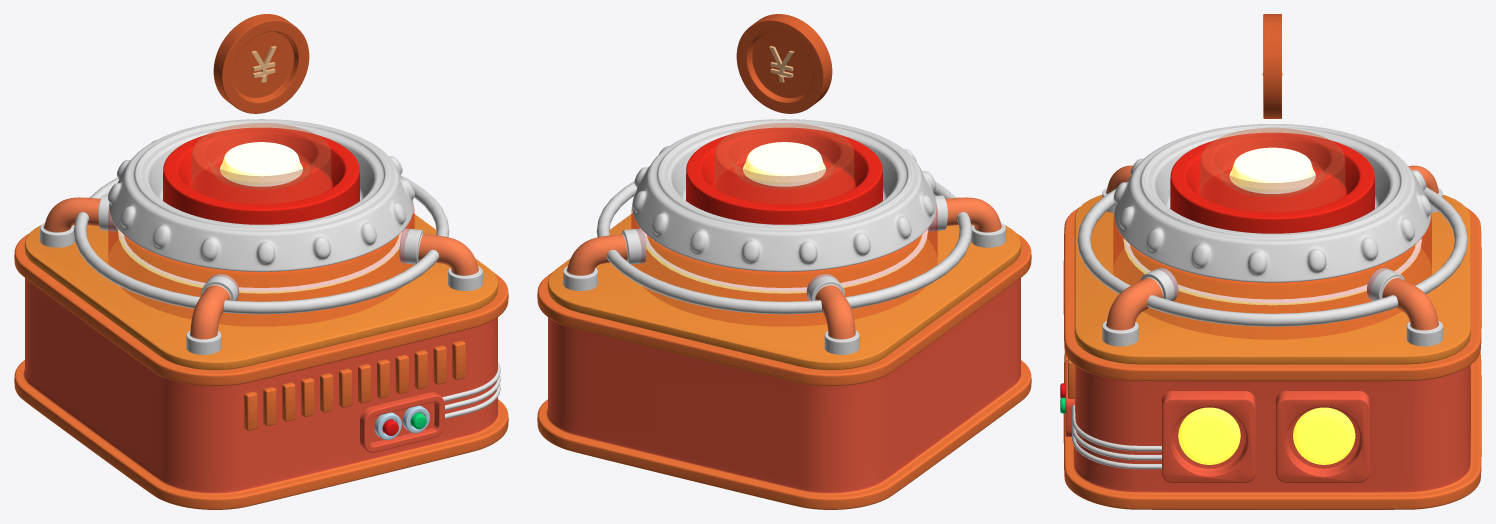
File: money.glb
3 renders of one model, left to right at view 1: azimuth 30°, elevation 25°; view 2: azimuth 150°, elevation 25°; view 3: azimuth 270°, elevation 25°, orthographic. The views are drawn at different scales.
Visible parts, largest first — view 1: 立方体, 立方体.006, 柱体.009, 柱体.011, 柱体.008, 柱体.012, 柱体.010, 柱体.013, 立方体.001, 贝塞尔圆, 立方体.002, 贝塞尔圆.001 (+1 smaller); view 2: 立方体, 立方体.006, 柱体.009, 柱体.011, 柱体.008, 柱体.012, 柱体.010, 柱体.013, 贝塞尔圆, 贝塞尔圆.001; view 3: 立方体, 立方体.006, 柱体.009, 柱体.011, 柱体.008, 柱体.012, 贝塞尔圆, 柱体.010, 立方体.004, 立方体.003, 立方体.007, 立方体.008 (+3 smaller).
Part boxes in pixels (<box>): 立方体: <box>14,233,508,509</box>; 立方体.006: <box>24,213,498,369</box>; 柱体.009: <box>108,119,414,271</box>; 柱体.011: <box>163,127,359,224</box>; 柱体.008: <box>108,209,414,326</box>; 柱体.012: <box>192,123,330,203</box>; 柱体.010: <box>40,195,482,354</box>; 柱体.013: <box>213,14,309,113</box>; 立方体.001: <box>244,340,465,430</box>; 贝塞尔圆: <box>73,176,449,314</box>; 立方体.002: <box>360,392,444,452</box>; 贝塞尔圆.001: <box>118,229,402,293</box>; 立方体: <box>537,233,1031,509</box>; 立方体.006: <box>547,213,1021,369</box>; 柱体.009: <box>632,119,936,271</box>; 柱体.011: <box>686,127,882,224</box>; 柱体.008: <box>631,209,937,326</box>; 柱体.012: <box>715,123,853,203</box>; 柱体.010: <box>563,195,1005,354</box>; 柱体.013: <box>736,14,832,113</box>; 贝塞尔圆: <box>596,181,972,314</box>; 贝塞尔圆.001: <box>643,229,927,293</box>; 立方体: <box>1063,207,1481,509</box>; 立方体.006: <box>1074,195,1470,364</box>; 柱体.009: <box>1113,124,1431,282</box>; 柱体.011: <box>1170,132,1374,233</box>; 柱体.008: <box>1113,215,1431,339</box>; 柱体.012: <box>1200,128,1344,212</box>; 贝塞尔圆: <box>1077,187,1467,326</box>; 柱体.010: <box>1102,165,1443,346</box>; 立方体.004: <box>1276,391,1369,482</box>; 立方体.003: <box>1162,391,1255,482</box>; 立方体.007: <box>1178,407,1240,464</box>; 立方体.008: <box>1293,407,1355,464</box>.
Size of the model in its own units: 10.75 by 11.25 by 10.65.
